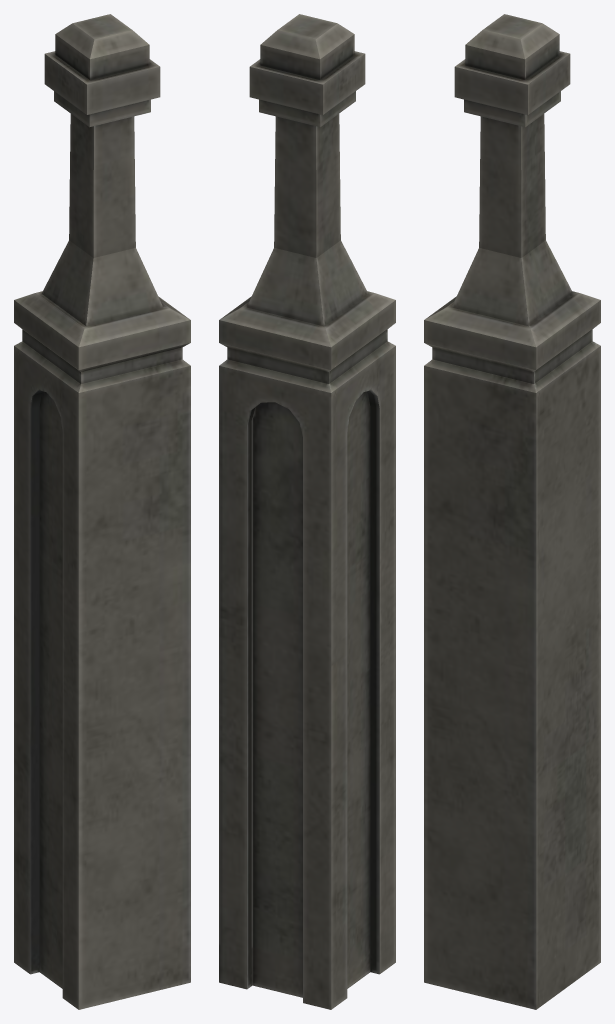
The model's file is SM_Column5.fbx.
The picture shows the model from 3 angles, left to right: view 1: azimuth 30°, elevation 25°; view 2: azimuth 150°, elevation 25°; view 3: azimuth 330°, elevation 25°; orthographic projection.
Visible parts, largest first — view 1: SM_Column5; view 2: SM_Column5; view 3: SM_Column5.
Part boxes in pixels (box(x1,y1,x2,y2)): SM_Column5: box(14, 14, 190, 1009); SM_Column5: box(219, 14, 395, 1009); SM_Column5: box(424, 14, 600, 1009).
Size of the model in its own units: 44.21 by 44.21 by 357.
